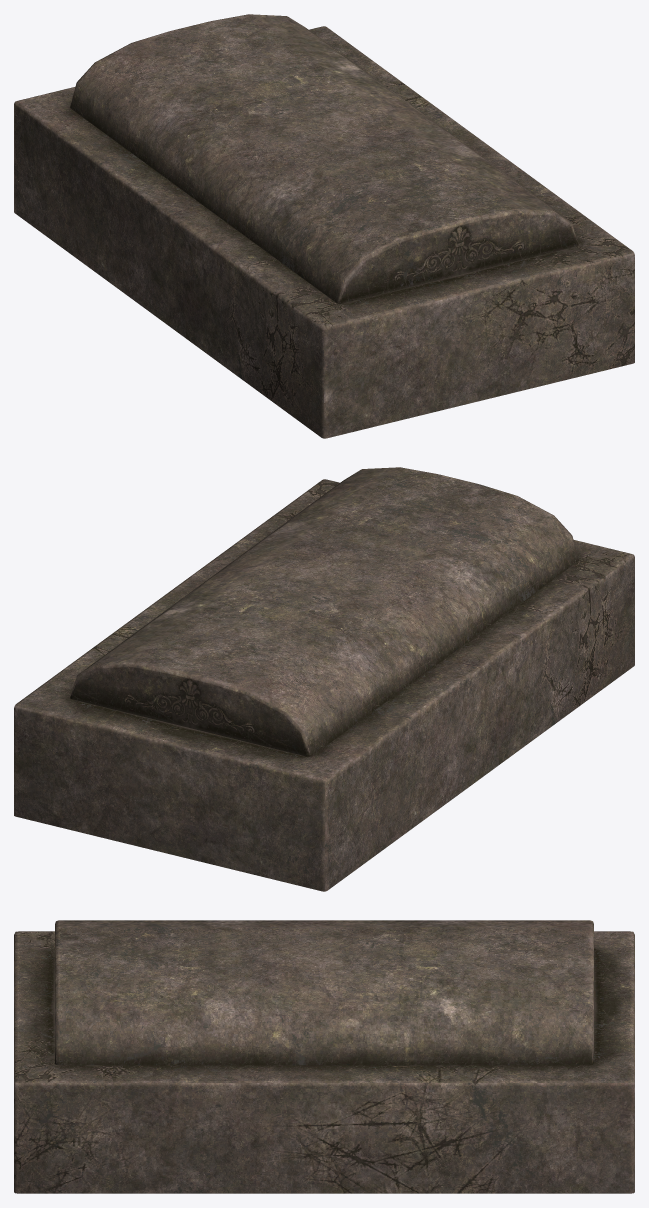
Rendered from SM_tombstone_41.fbx.
The picture shows the model from 3 angles, top to bottom: view 1: azimuth 30°, elevation 25°; view 2: azimuth 150°, elevation 25°; view 3: azimuth 270°, elevation 25°; orthographic projection.
Parts seen in each view (by area): view 1: SM_tombstone_041; view 2: SM_tombstone_041; view 3: SM_tombstone_041.
Part boxes in pixels (x1,y1,x2,y2): SM_tombstone_041: [14, 14, 634, 438]; SM_tombstone_041: [14, 467, 634, 891]; SM_tombstone_041: [14, 920, 634, 1193].
Size of the model in its own units: 128 by 64.07 by 221.
